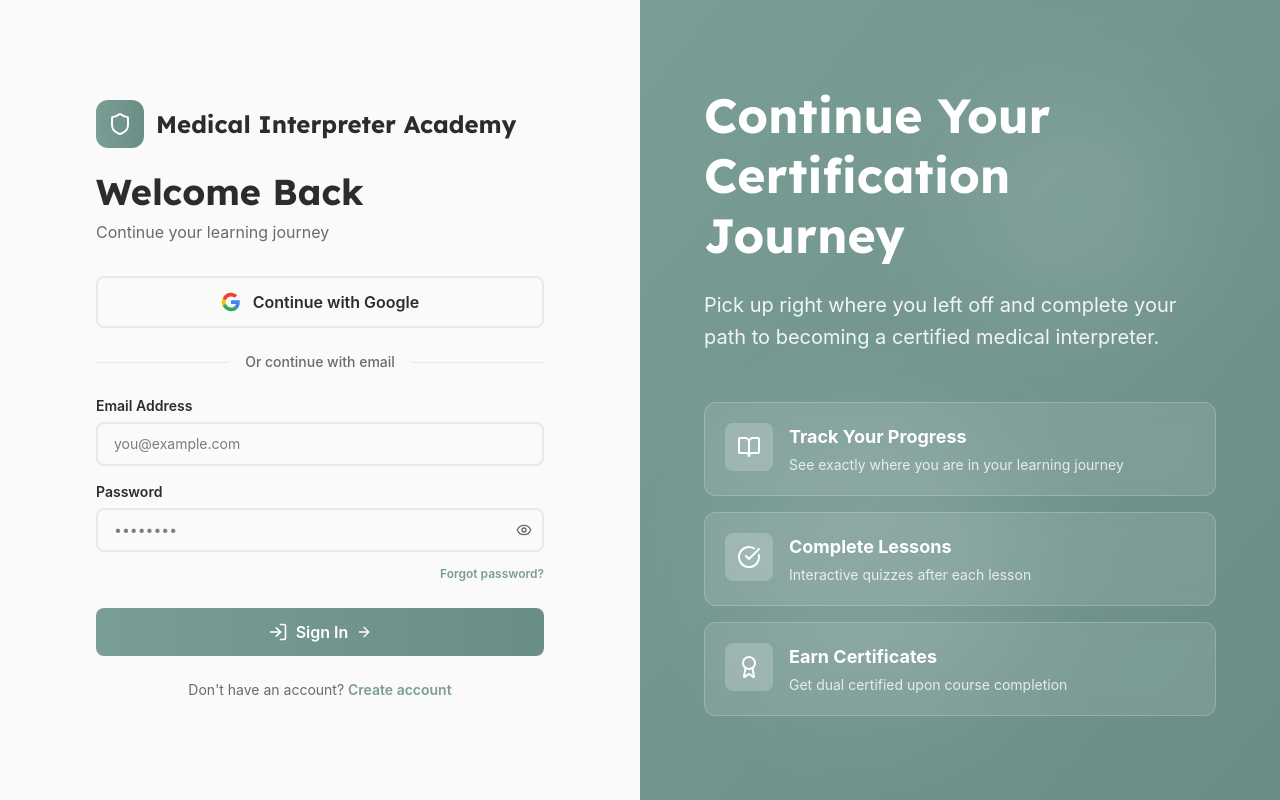
Test: Login Page › Successful Login › should show loading state during login
The image size is (1280, 800).
In the field labelled "Email Address": (320, 444) left=96, top=422, right=544, bottom=466, type "test@example.com"
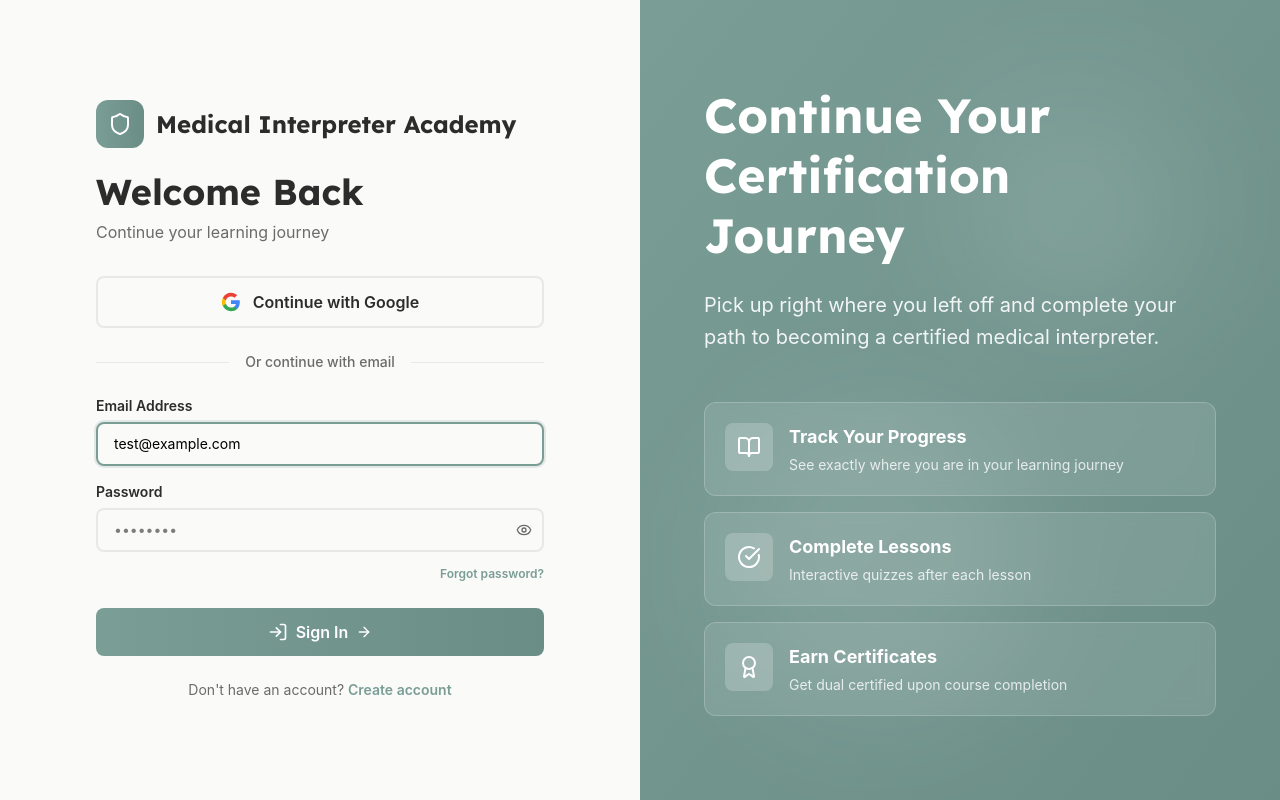
In the password field labelled "Password": (320, 530) left=96, top=508, right=544, bottom=552, type "password123"
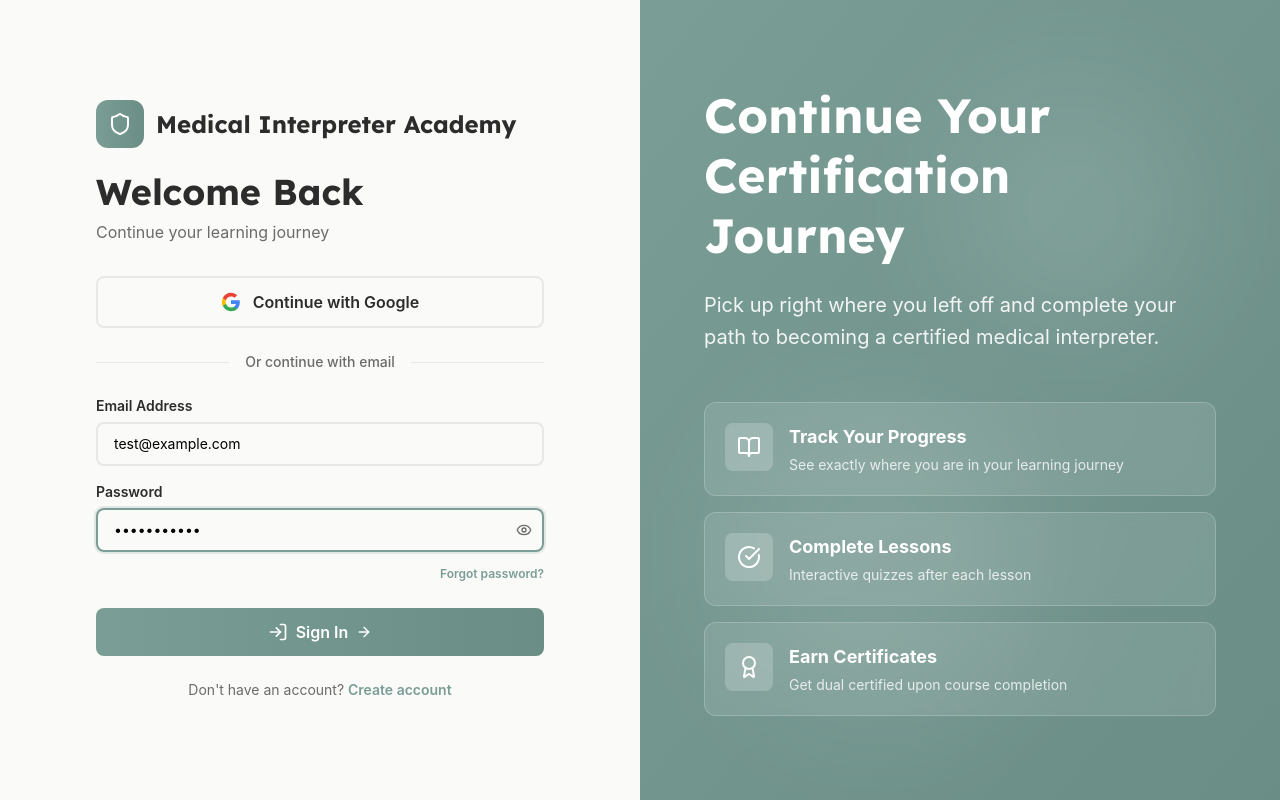
Click the button "Sign In": click(320, 632) left=96, top=608, right=544, bottom=656
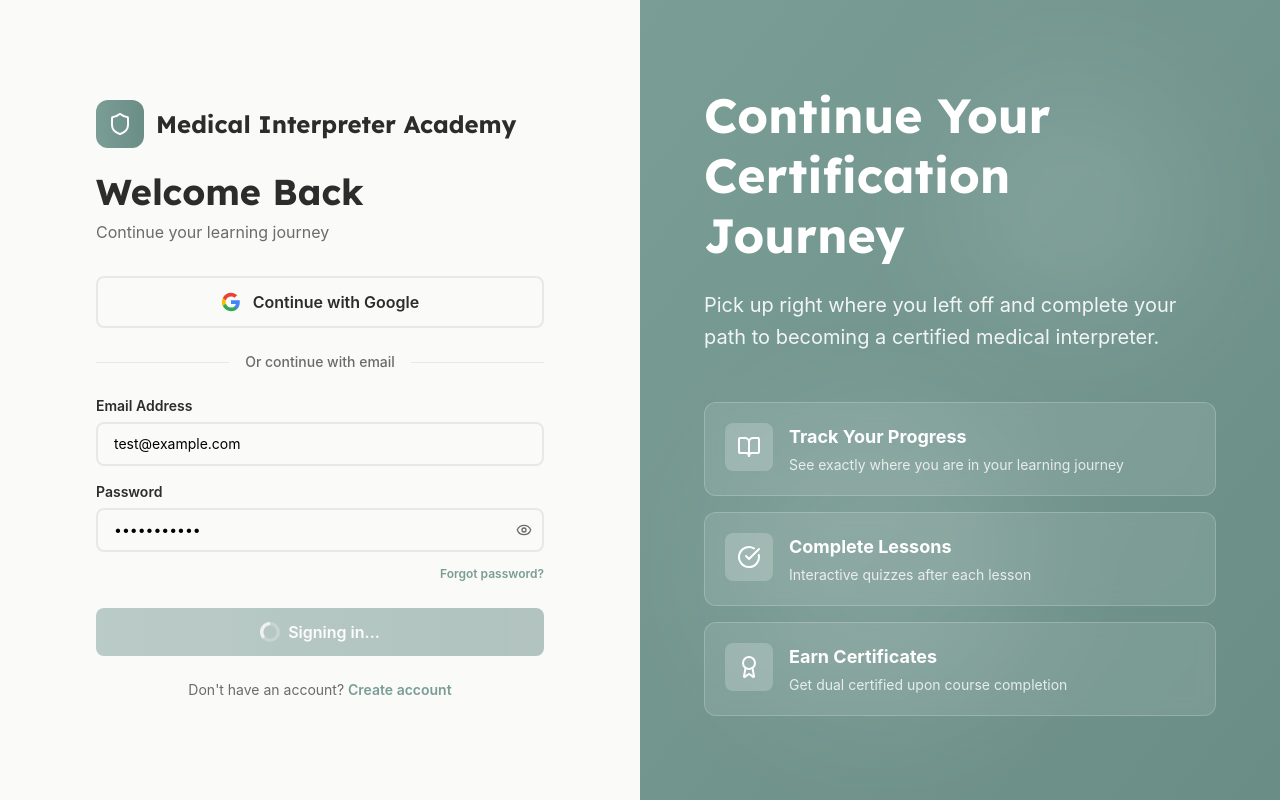
Expected: the text "Signing in..." is shown, left=288, top=620, right=380, bottom=644
